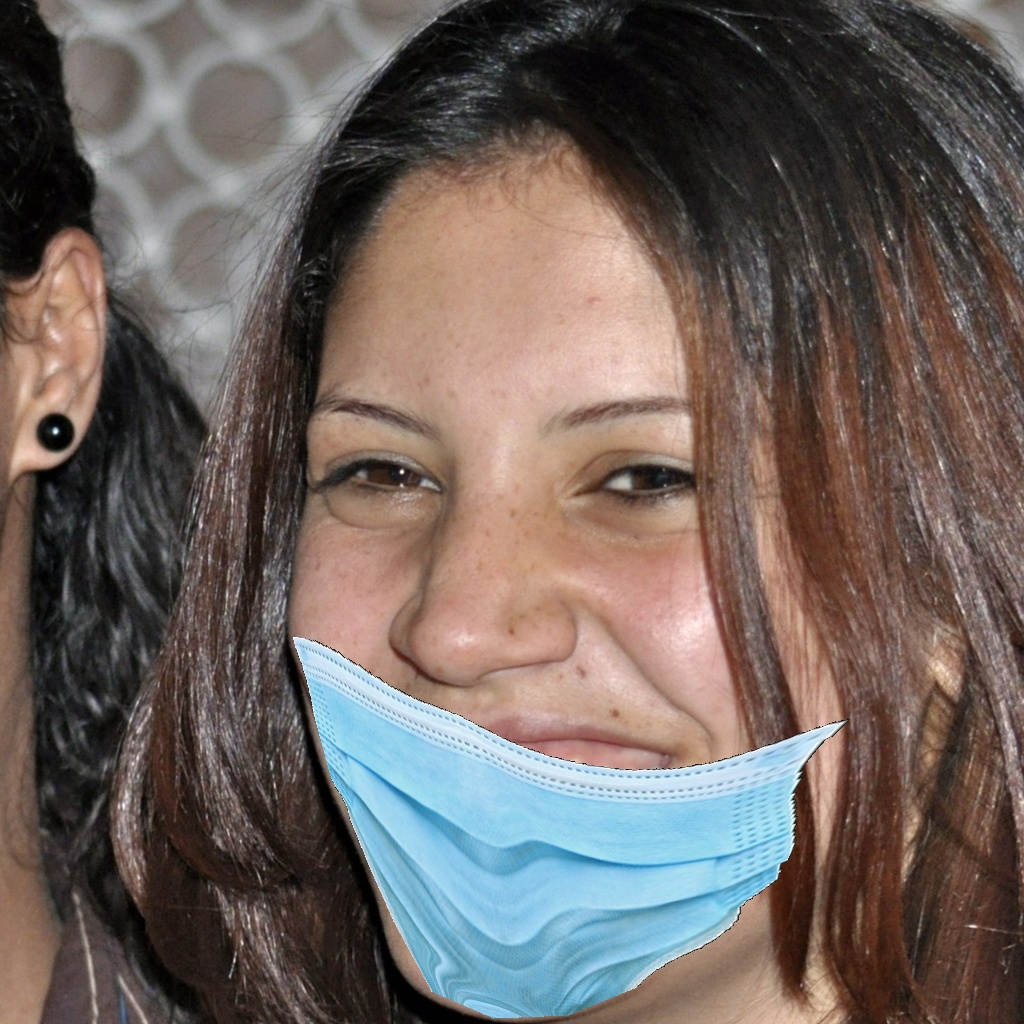mask_weared_incorrect: (297, 388, 800, 1018)
